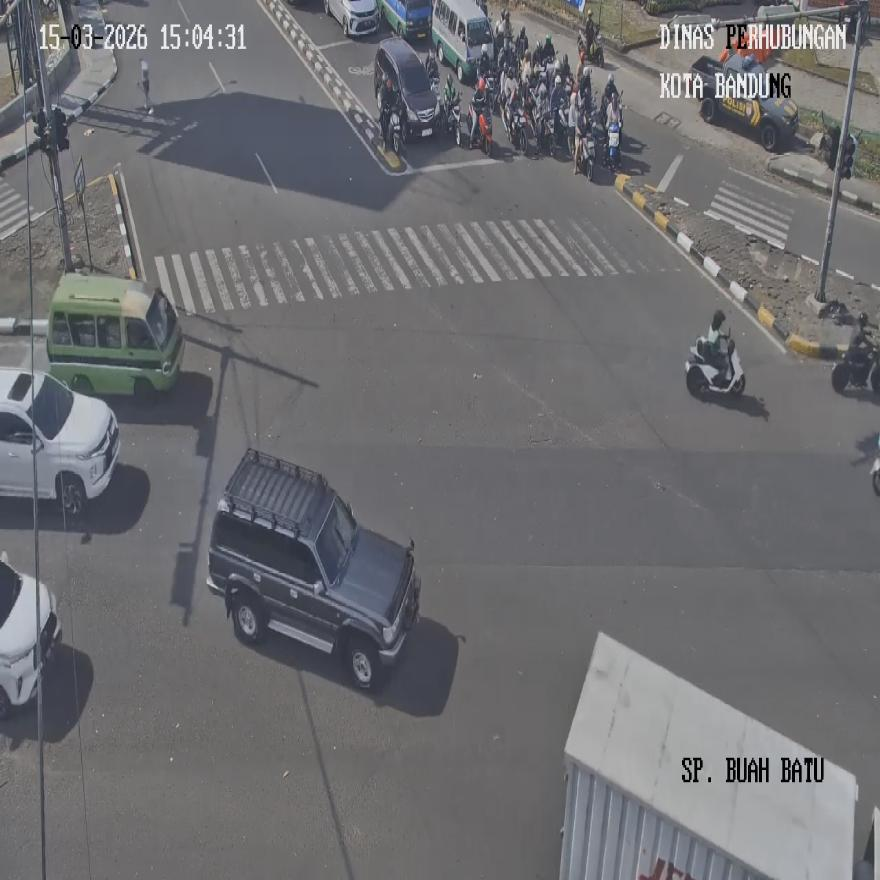Motor: (205, 448, 420, 690), (45, 272, 184, 404), (0, 366, 120, 514), (0, 552, 62, 720)
Truk: (684, 334, 744, 397), (831, 344, 880, 392), (504, 98, 533, 154), (468, 100, 492, 154), (578, 18, 602, 68), (574, 128, 594, 178), (605, 121, 620, 172), (447, 99, 462, 147), (388, 110, 404, 155)
